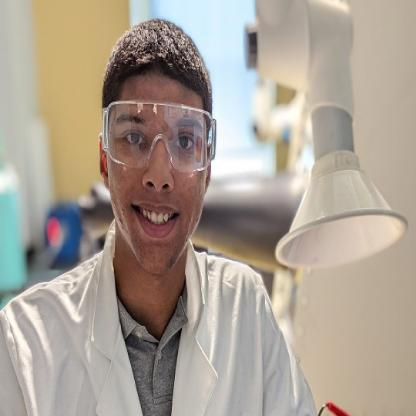oculos: (106, 100, 216, 174)
